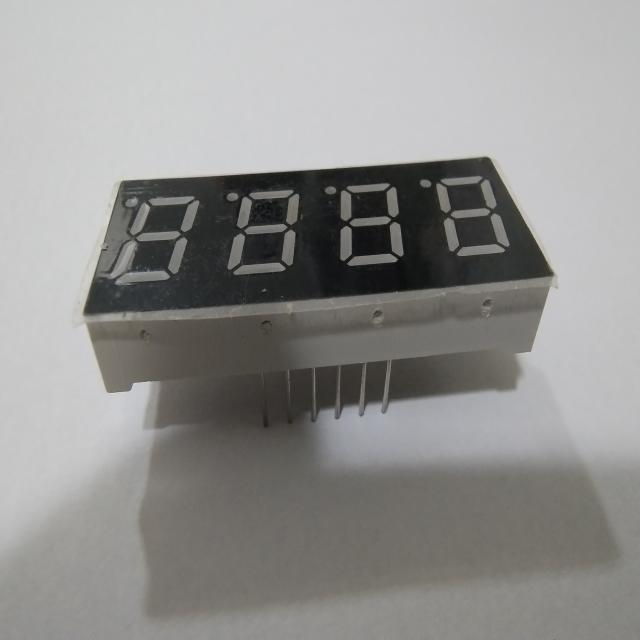7_segments_4_digits: (68, 148, 562, 461)
